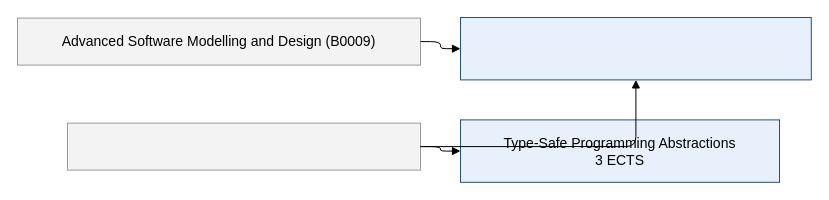
This 829x200 diagram has some shape labels left out. The centre of each missing label's shape, as x and y in pixels:
Certified and Compositional Programming 3 ECTS: the point at 635,48
Emerging Programming Paradigms (81672): the point at 243,146
